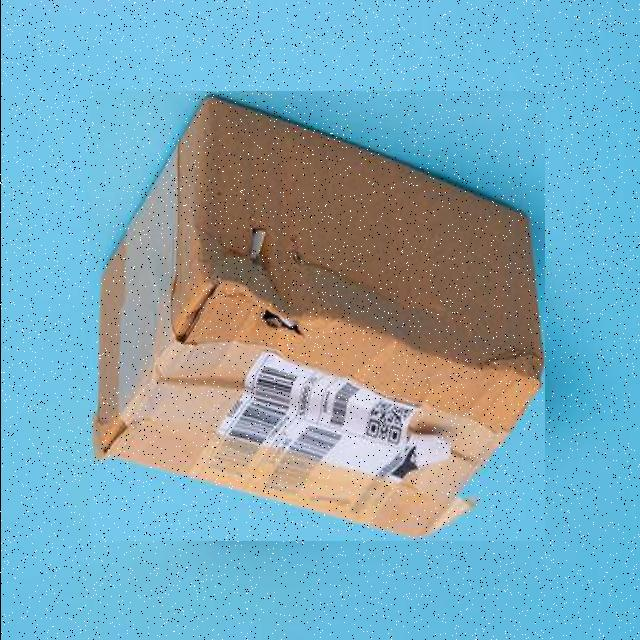defect: (89, 91, 544, 541)
